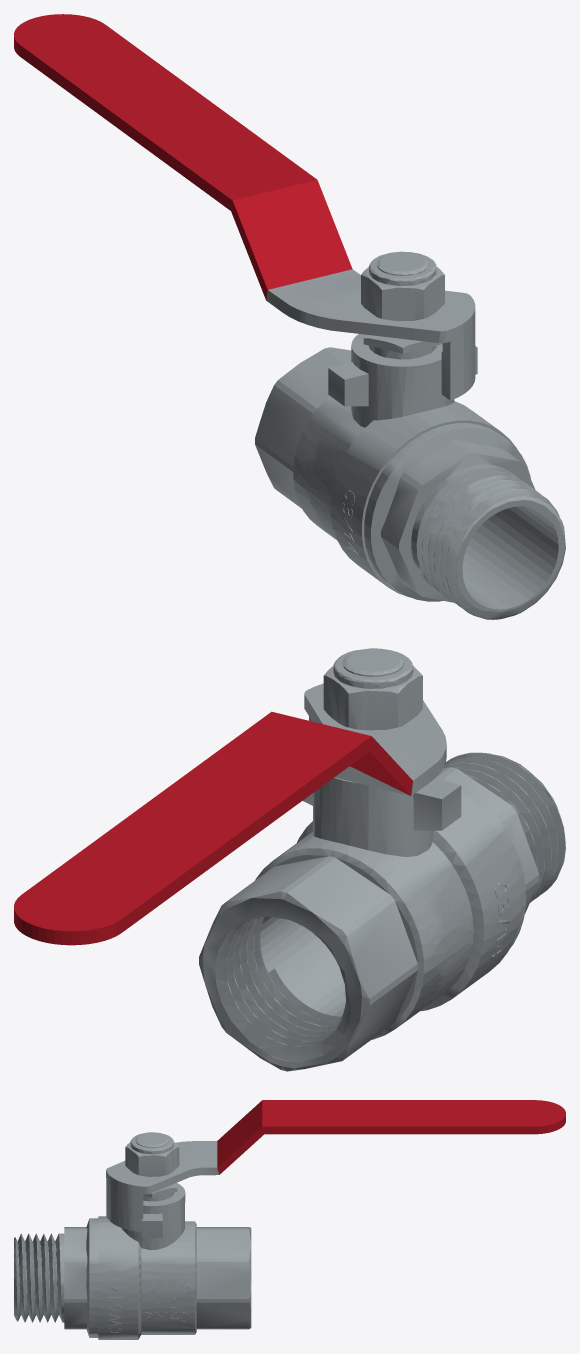
File: valtec_vt215_dn15-BGGQBXM4.glb
3 renders of one model, top to bottom at view 1: azimuth 30°, elevation 25°; view 2: azimuth 150°, elevation 25°; view 3: azimuth 270°, elevation 25°, orthographic. The views are drawn at different scales.
Parts seen in each view (by area): view 1: valtec_vt215_dn15; view 2: valtec_vt215_dn15; view 3: valtec_vt215_dn15.
Part boxes in pixels (left/top/right/bottom): valtec_vt215_dn15: left=14, top=14, right=565, bottom=619; valtec_vt215_dn15: left=14, top=648, right=565, bottom=1071; valtec_vt215_dn15: left=14, top=1100, right=565, bottom=1339.
Size of the model in its own units: 0.0297 by 0.0546 by 0.1316.
